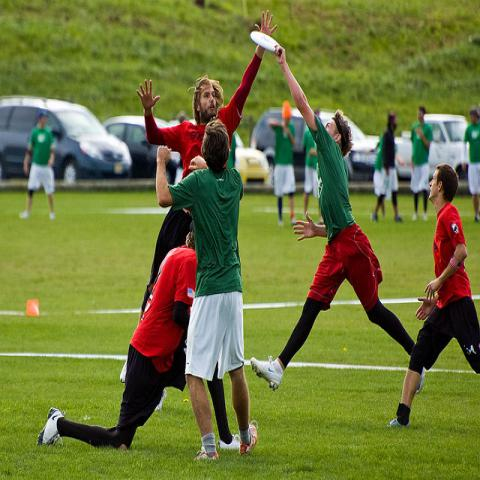car: (0, 96, 137, 182), (250, 108, 382, 188), (103, 114, 183, 183), (394, 114, 468, 184), (236, 147, 271, 192)
truck: (0, 99, 130, 193), (0, 99, 130, 190), (394, 115, 470, 194)
